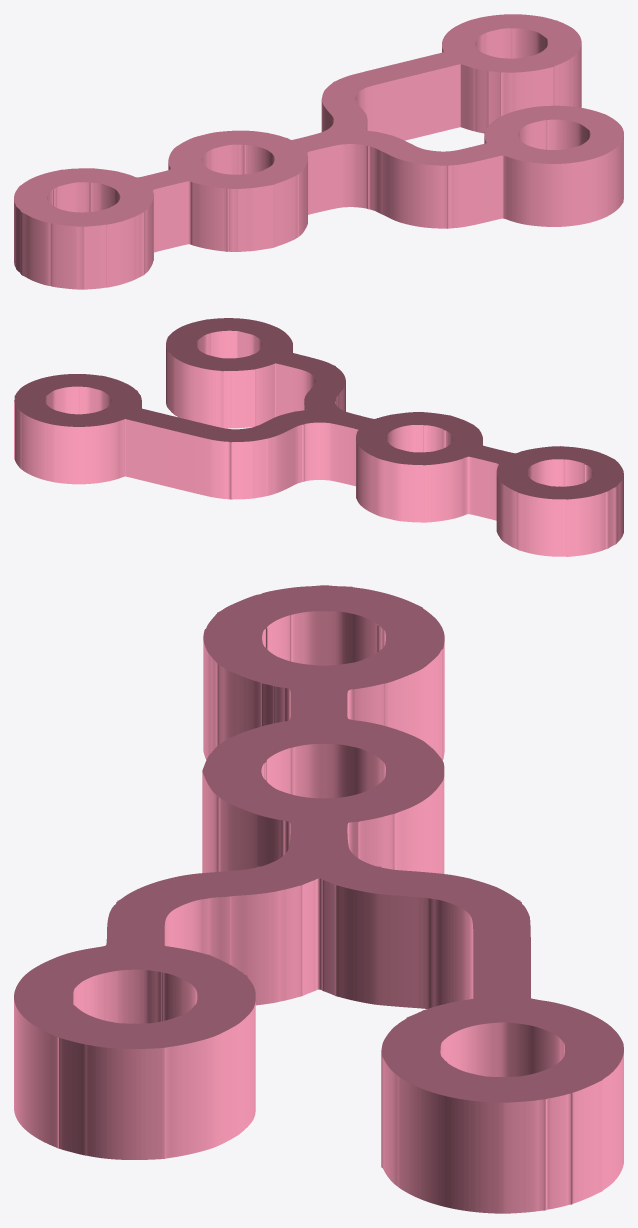
3 views of the same model, one above another, from view 1: azimuth 30°, elevation 25°; view 2: azimuth 150°, elevation 25°; view 3: azimuth 270°, elevation 25° (orthographic). The views are drawn at different scales.
Visible parts, largest first — view 1: Node1; view 2: Node1; view 3: Node1.
Part boxes in pixels (left/top/right/bottom): Node1: left=14, top=14, right=623, bottom=289; Node1: left=14, top=318, right=623, bottom=556; Node1: left=14, top=585, right=623, bottom=1213.
Size of the model in its own units: 3.93 by 0.3937 by 1.96.
